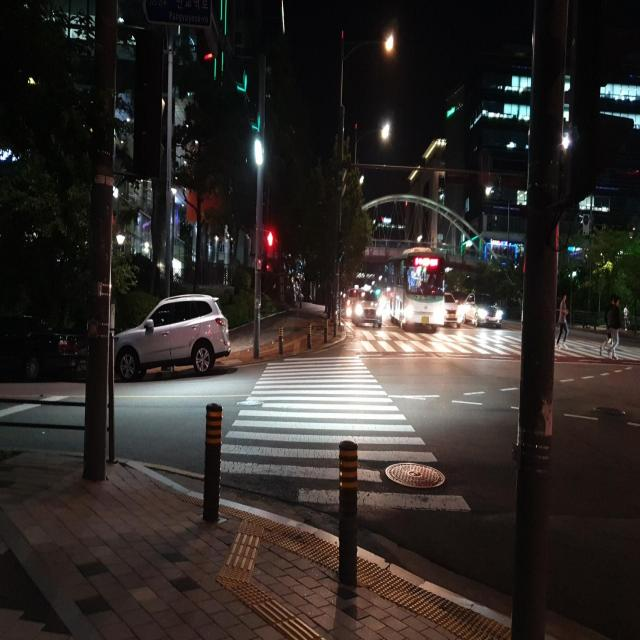횡단보도: (219, 354, 472, 514), (361, 328, 640, 358)
